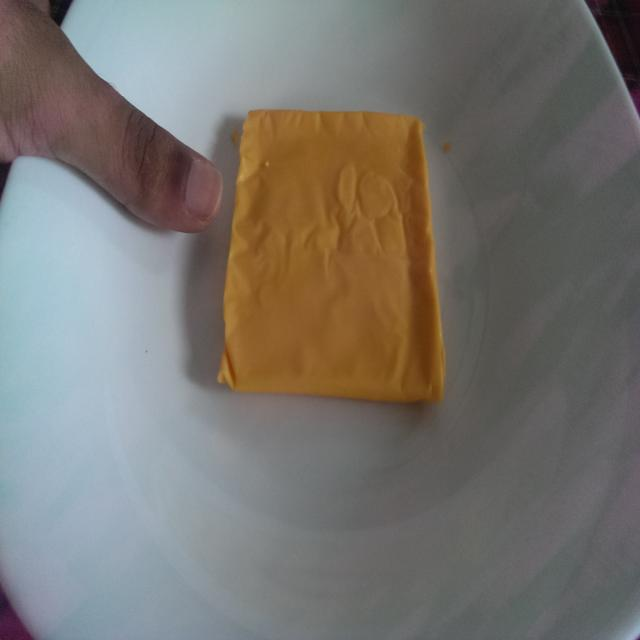cheese: (225, 107, 454, 411)
